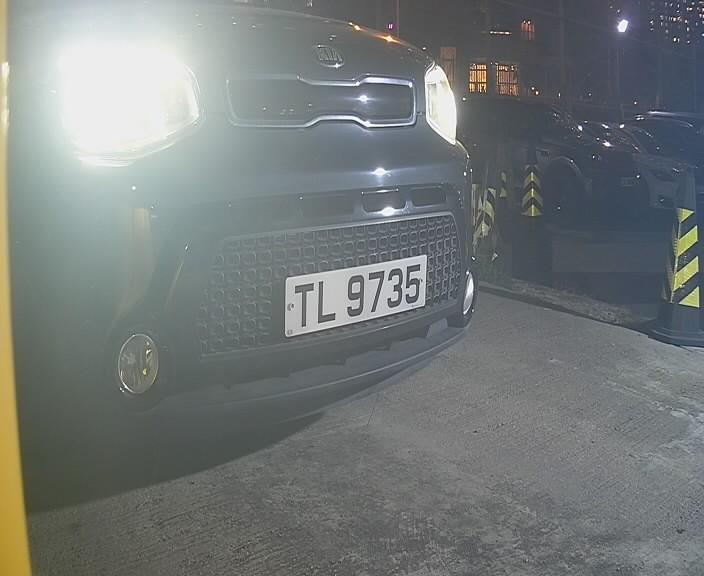License Plate: (277, 242, 437, 337)
